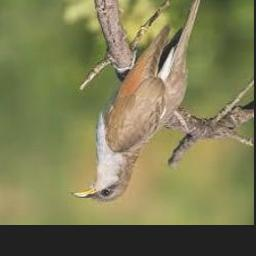Cuckoo: (71, 0, 210, 202)
